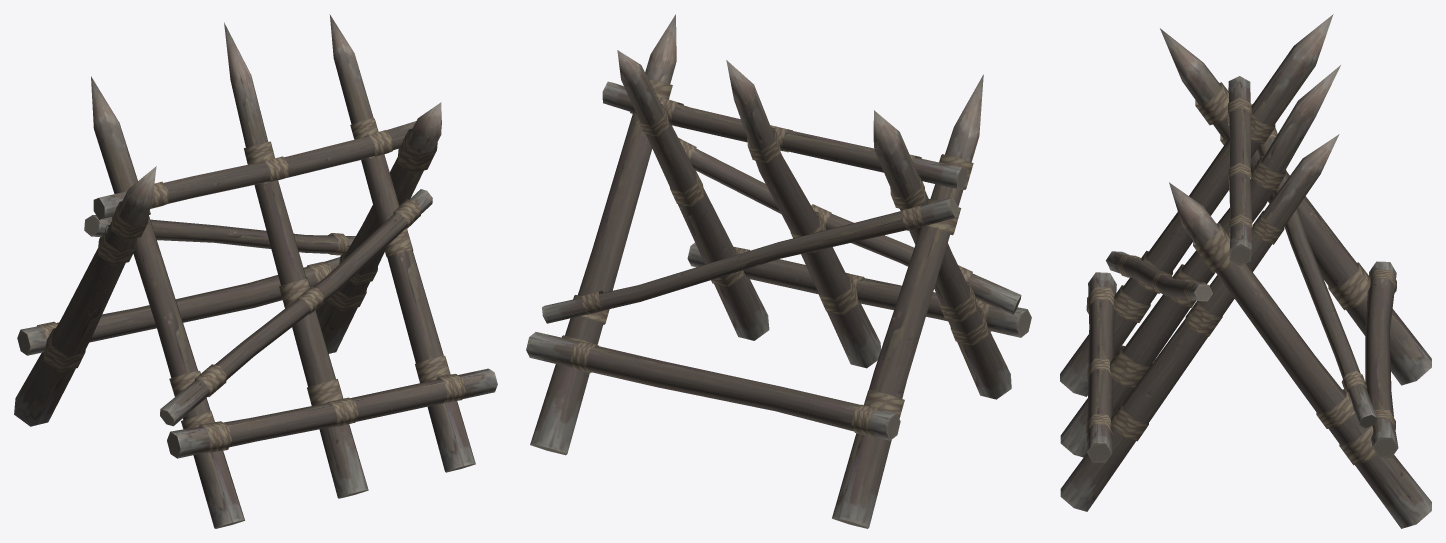
The model's file is Homeworld_Exterior_Dq_Decoration_Resistinghorses_01_Vo.fbx.
3 views of the same model, side by side, from view 1: azimuth 30°, elevation 25°; view 2: azimuth 150°, elevation 25°; view 3: azimuth 270°, elevation 25° (orthographic). The views are drawn at different scales.
Visible parts, largest first — view 1: Area_Dq_Prop_Common_Resistinghorses_01_Vo; view 2: Area_Dq_Prop_Common_Resistinghorses_01_Vo; view 3: Area_Dq_Prop_Common_Resistinghorses_01_Vo.
Boxes of the visible parts, <box> form: Area_Dq_Prop_Common_Resistinghorses_01_Vo: <box>14,14,497,528</box>; Area_Dq_Prop_Common_Resistinghorses_01_Vo: <box>526,14,1031,528</box>; Area_Dq_Prop_Common_Resistinghorses_01_Vo: <box>1060,14,1431,528</box>.
Bounding box in the file's own units: 2.19 × 2.36 × 2.02.
